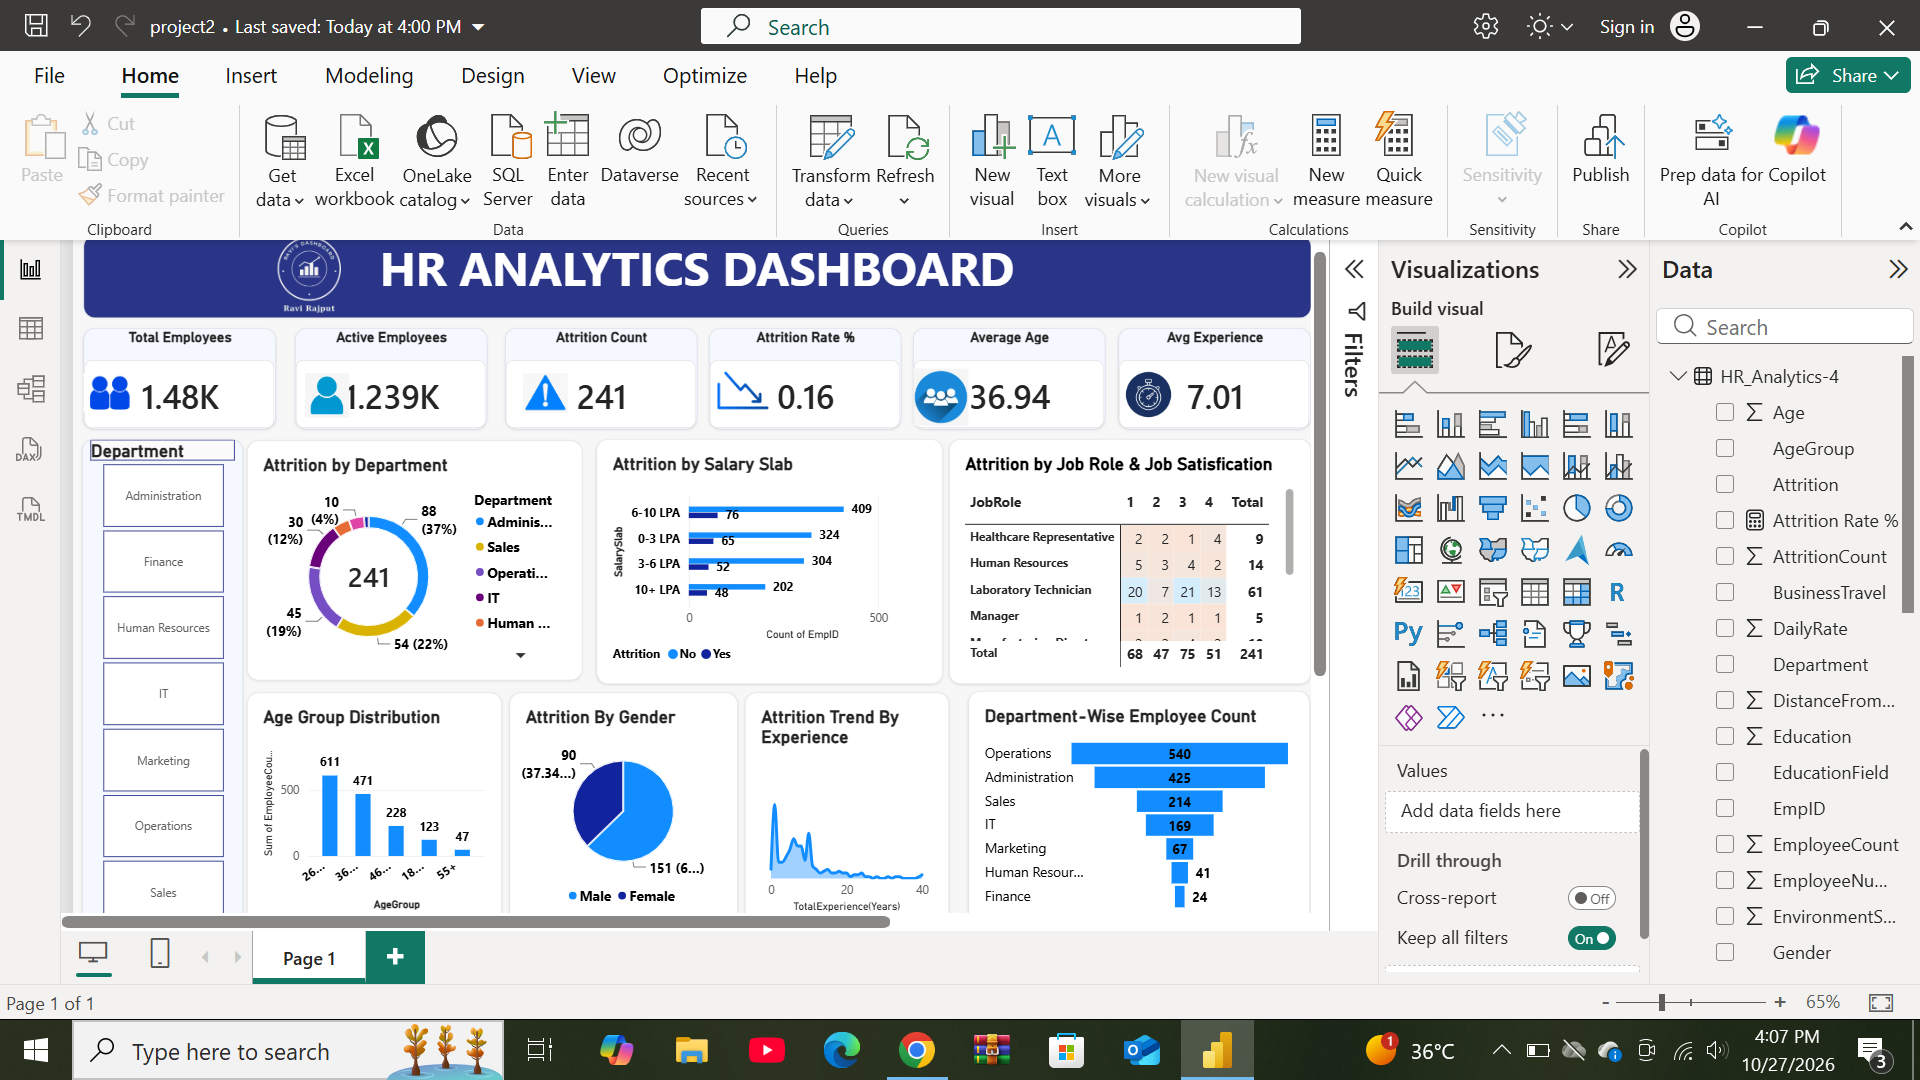

This screenshot's page, from the dashboard's own definition file:
{"tool":"powerbi","page":{"name":"Page 1","canvas":[1920,1080],"ordinal":0},"visuals":[{"type":"textbox","box":[10,0,1259,85],"z":0},{"type":"image","box":[0,0,402,84],"z":1000},{"type":"cardVisual","title":"Total Employees","fields":{"Data":["CountNonNull(HR_Analytics-4.EmpID)"]},"box":[10,95,197,104],"z":2000},{"type":"cardVisual","title":"Active Employees","fields":{"Data":["CountNonNull(HR_Analytics-4.EmployeeCount)"]},"box":[228.3,95,197,104],"z":3000},{"type":"cardVisual","title":"Attrition Count","fields":{"Data":["Sum(HR_Analytics-4.AttritionCount)"]},"box":[443.3,95,197,104],"z":4000},{"type":"cardVisual","title":"Attrition Rate %","fields":{"Data":["HR_Analytics-4.Attrition Rate %"]},"box":[651.7,95,197,104],"z":5000},{"type":"cardVisual","title":"Average Age","fields":{"Data":["Avg(HR_Analytics-4.Age)"]},"box":[861.7,95,197,104],"z":6000},{"type":"cardVisual","title":"Avg Experience","fields":{"Data":["Avg(HR_Analytics-4.YearsatCompany)"]},"box":[1071.7,95,197,104],"z":7000},{"type":"image","box":[10,137.1,54.3,50],"z":8000},{"type":"image","box":[228.6,141.4,62.9,45.7],"z":9000},{"type":"image","box":[461.4,137.1,45.7,50],"z":10000},{"type":"image","box":[651.4,130,72.9,57.1],"z":11000},{"type":"image","box":[861.4,137.1,57.1,58.6],"z":12000},{"type":"image","box":[1071.4,140,64.3,47.1],"z":13000},{"type":"donutChart","title":"Attrition by Department","fields":{"Category":["HR_Analytics-4.Department"],"Y":["Sum(HR_Analytics-4.AttritionCount)"]},"box":[179,210,344.3,245.7],"z":14000},{"type":"clusteredBarChart","title":"Attrition by Salary Slab","fields":{"Category":["HR_Analytics-4.SalarySlab"],"Series":["HR_Analytics-4.Attrition"],"Y":["CountNonNull(HR_Analytics-4.EmpID)"]},"box":[537,209,355,251],"z":15000},{"type":"pivotTable","title":"Attrition by Job Role & Job Satisfication","fields":{"Columns":["HR_Analytics-4.JobSatisfaction"],"Rows":["HR_Analytics-4.JobRole"],"Values":["Sum(HR_Analytics-4.AttritionCount)"]},"box":[898,209,371,251],"z":16000},{"type":"columnChart","title":"Age Group Distribution","fields":{"Category":["HR_Analytics-4.AgeGroup"],"Y":["Sum(HR_Analytics-4.EmployeeCount)"]},"box":[179,469,261,240],"z":17000},{"type":"pieChart","title":"Attrition By Gender","fields":{"Category":["HR_Analytics-4.Gender"],"Y":["Sum(HR_Analytics-4.AttritionCount)"]},"box":[448,469,234,240],"z":18000},{"type":"areaChart","title":"Attrition Trend By Experience","fields":{"Category":["HR_Analytics-4.TotalExperience(Years)"],"Y2":["Sum(HR_Analytics-4.AttritionCount)"]},"box":[689,469,209,242],"z":19000},{"type":"funnel","title":"Department-Wise Employee Count","fields":{"Category":["HR_Analytics-4.Department"],"Y":["CountNonNull(HR_Analytics-4.EmpID)"]},"box":[918.3,468.3,350,241.7],"z":20000},{"type":"slicer","fields":{"Values":["HR_Analytics-4.Department"]},"box":[9,209,165,500],"z":21000}]}

Visuals, with their boxes on the page's 1920x1080 design canvas (x1, y1, x2, y2). These are canvas units, not pixel positions in the 1920x1080 screenshot, which may show the page scaled, cropped or inside an application window:
textbox: (left=10, top=0, right=1269, bottom=85)
image: (left=0, top=0, right=402, bottom=84)
"Total Employees" cardVisual: (left=10, top=95, right=207, bottom=199)
"Active Employees" cardVisual: (left=228, top=95, right=425, bottom=199)
"Attrition Count" cardVisual: (left=443, top=95, right=640, bottom=199)
"Attrition Rate %" cardVisual: (left=652, top=95, right=849, bottom=199)
"Average Age" cardVisual: (left=862, top=95, right=1059, bottom=199)
"Avg Experience" cardVisual: (left=1072, top=95, right=1269, bottom=199)
image: (left=10, top=137, right=64, bottom=187)
image: (left=229, top=141, right=292, bottom=187)
image: (left=461, top=137, right=507, bottom=187)
image: (left=651, top=130, right=724, bottom=187)
image: (left=861, top=137, right=918, bottom=196)
image: (left=1071, top=140, right=1136, bottom=187)
"Attrition by Department" donutChart: (left=179, top=210, right=523, bottom=456)
"Attrition by Salary Slab" clusteredBarChart: (left=537, top=209, right=892, bottom=460)
"Attrition by Job Role & Job Satisfication" pivotTable: (left=898, top=209, right=1269, bottom=460)
"Age Group Distribution" columnChart: (left=179, top=469, right=440, bottom=709)
"Attrition By Gender" pieChart: (left=448, top=469, right=682, bottom=709)
"Attrition Trend By Experience" areaChart: (left=689, top=469, right=898, bottom=711)
"Department-Wise Employee Count" funnel: (left=918, top=468, right=1268, bottom=710)
slicer - HR_Analytics-4.Department: (left=9, top=209, right=174, bottom=709)
